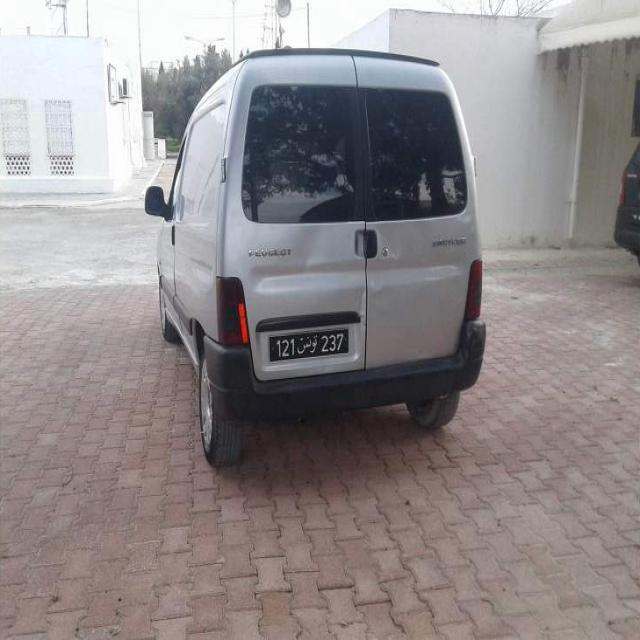licence plate: (269, 327, 349, 364)
